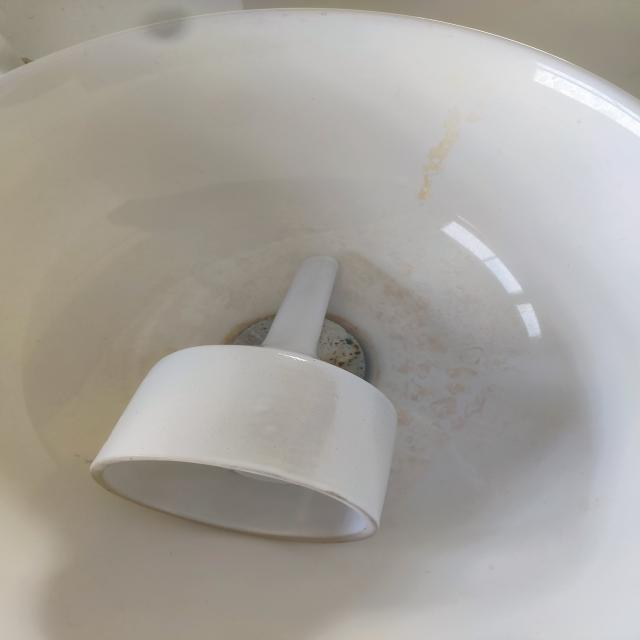Buchner_Funnel: (60, 223, 466, 579)
